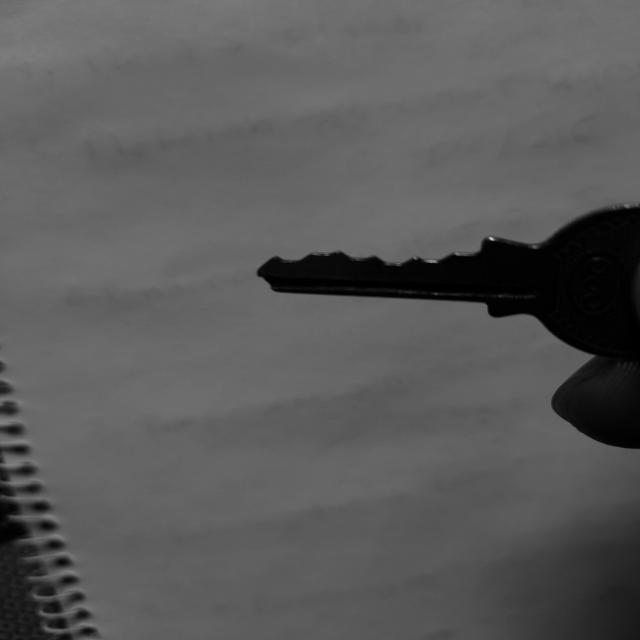KEY: (259, 204, 640, 357)
